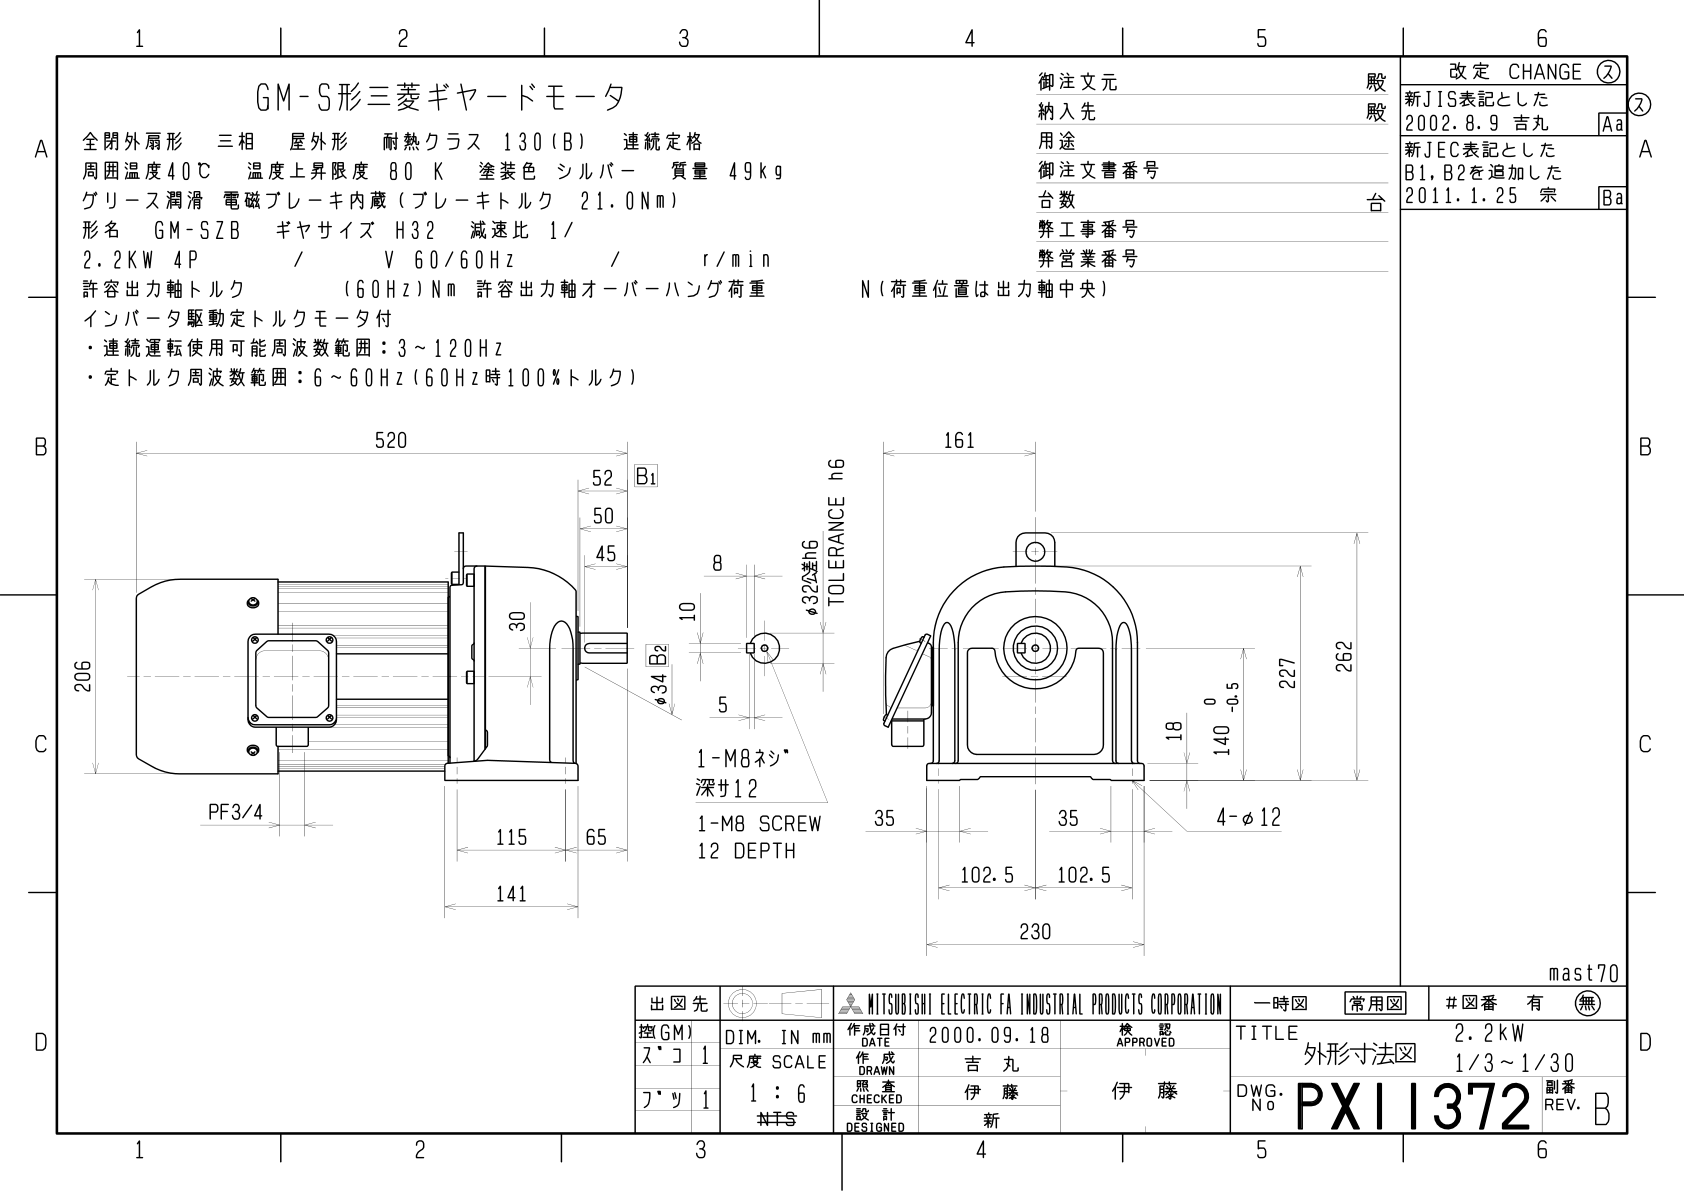GM_S_インバタ屋外＿三相_脚: (67, 391, 1381, 955)
